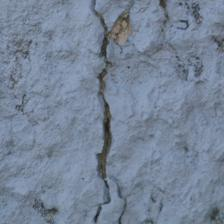Crack: (66, 14, 157, 212), (0, 16, 130, 63)
